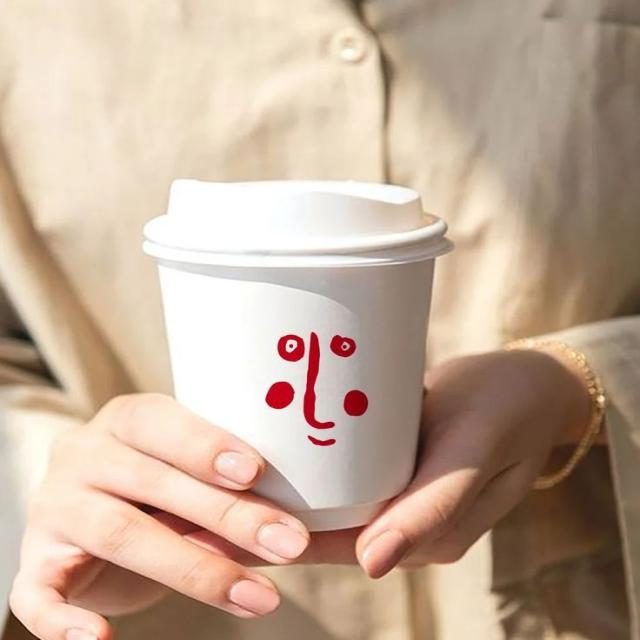paper cup: (143, 179, 454, 533)
